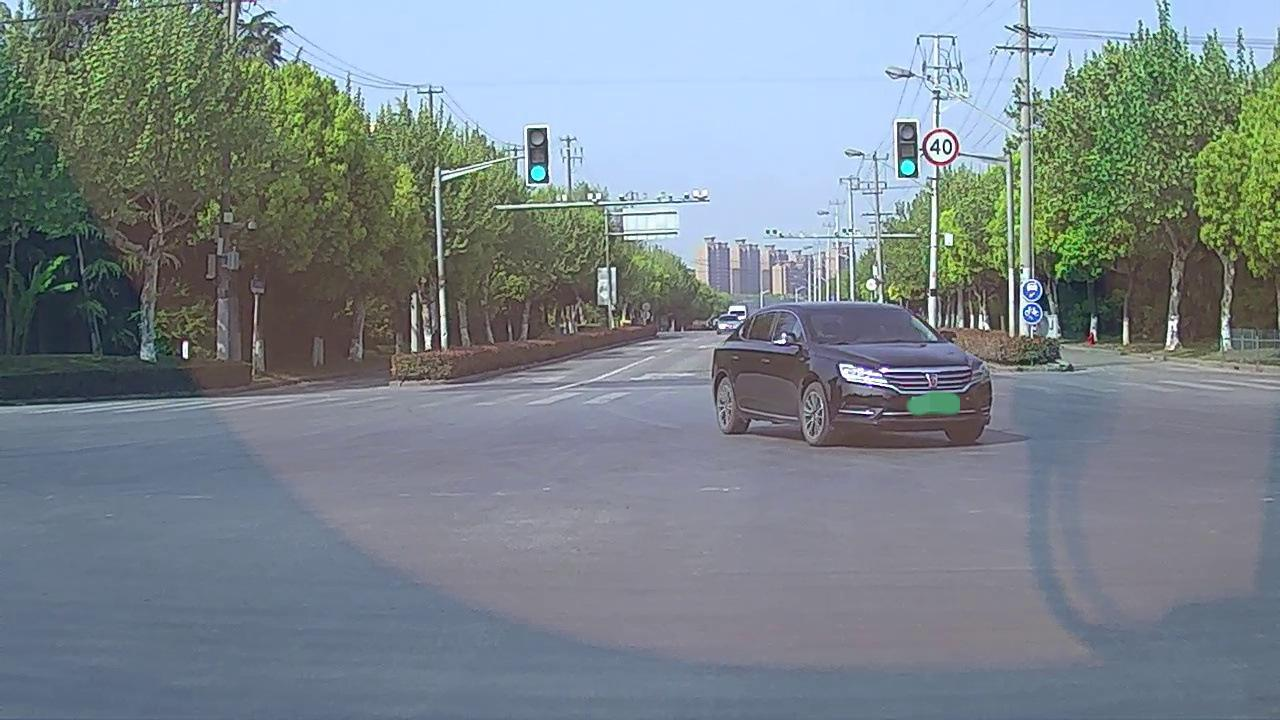traffic_light: (898, 120, 917, 178), (528, 127, 547, 184)
